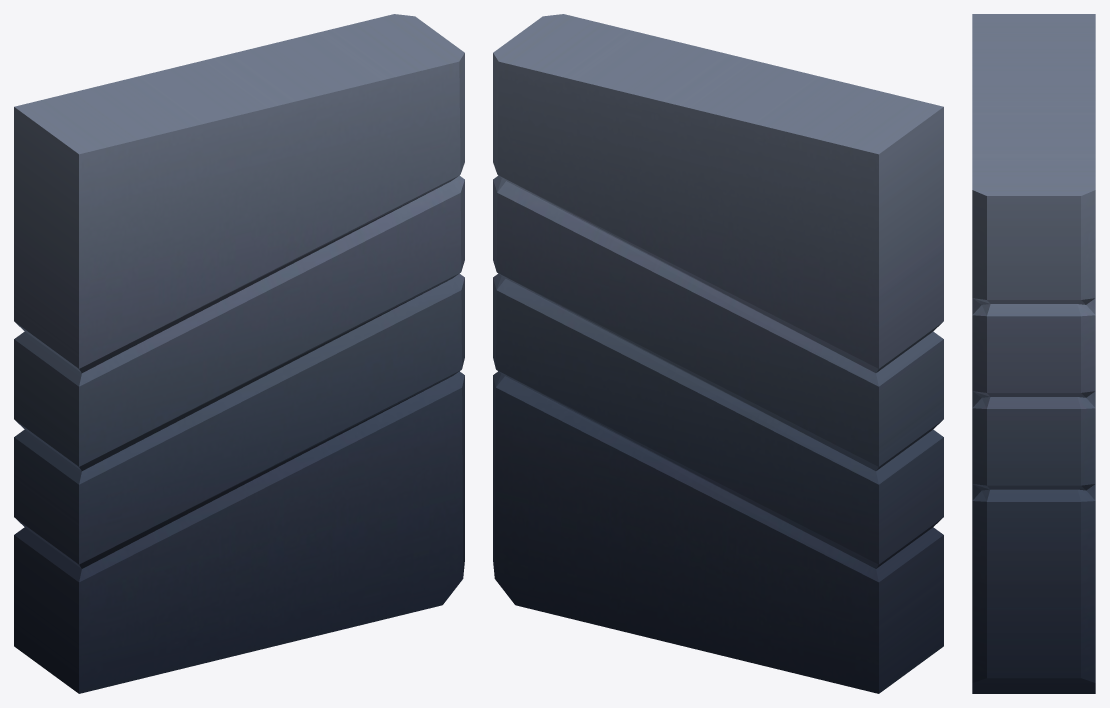
Rendered from Mag2.FBX.
3 views of the same model, side by side, from view 1: azimuth 30°, elevation 25°; view 2: azimuth 150°, elevation 25°; view 3: azimuth 270°, elevation 25° (orthographic). The views are drawn at different scales.
Parts seen in each view (by area): view 1: Object001; view 2: Object001; view 3: Object001.
Part boxes in pixels (<box>): Object001: <box>14,14,464,693</box>; Object001: <box>493,14,943,693</box>; Object001: <box>972,14,1095,693</box>.
Bounding box in the file's own units: 6.57 × 8.6 × 1.88.
